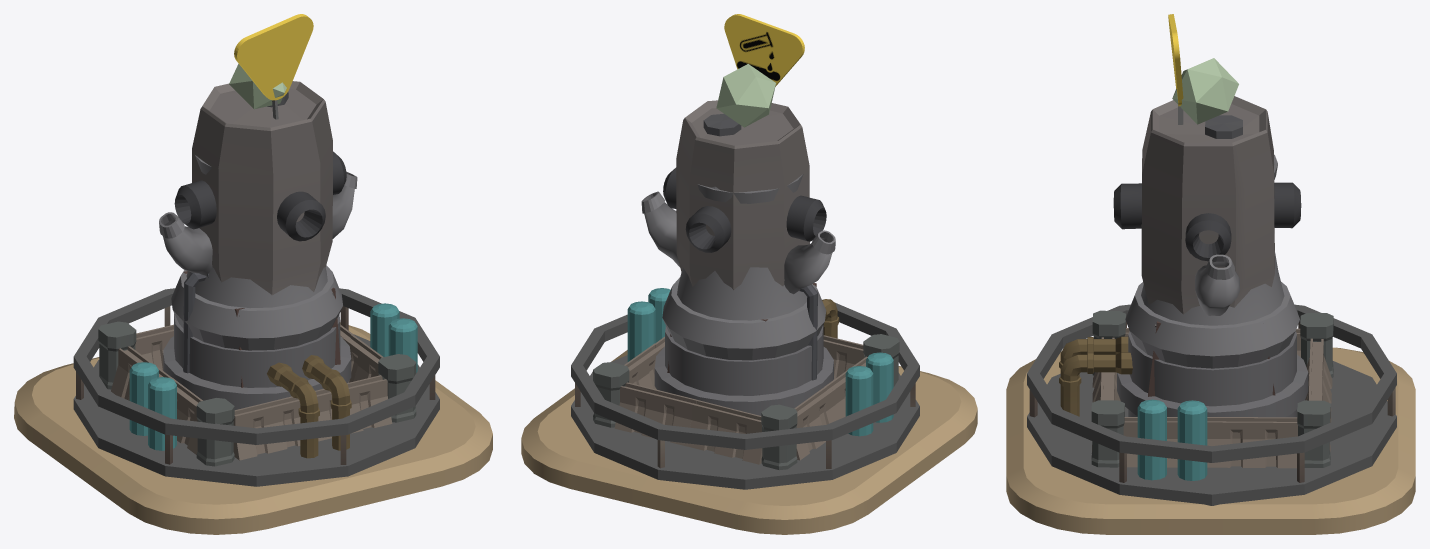
File: watertank.fbx
3 renders of one model, left to right at view 1: azimuth 30°, elevation 25°; view 2: azimuth 150°, elevation 25°; view 3: azimuth 270°, elevation 25°, orthographic. The views are drawn at different scales.
Parts seen in each view (by area): view 1: polySurface12, watertank2, Base3, core; view 2: polySurface12, watertank2, Base3, core; view 3: polySurface12, watertank2, Base3, core.
Part boxes in pixels (x1,y1,x2,y2): polySurface12: [73, 155, 439, 486]; watertank2: [174, 14, 346, 387]; Base3: [14, 322, 492, 534]; core: [229, 63, 286, 109]; polySurface12: [571, 174, 919, 489]; watertank2: [663, 14, 826, 380]; Base3: [521, 350, 977, 534]; core: [716, 64, 775, 127]; polySurface12: [1027, 154, 1396, 505]; watertank2: [1113, 14, 1301, 396]; Base3: [1006, 347, 1415, 534]; core: [1172, 58, 1238, 124].
Size of the model in its own units: 119 by 137 by 119.
